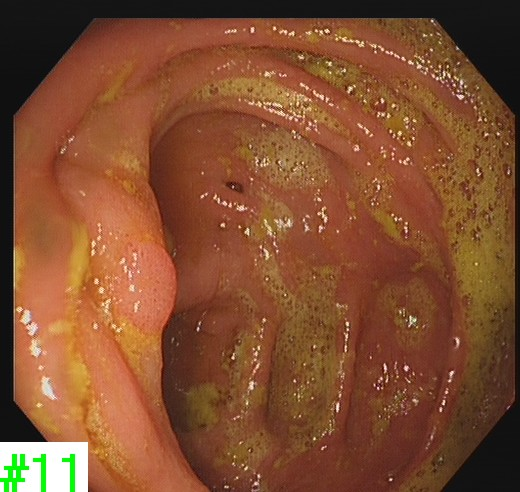adenoma: (113, 234, 179, 341)
